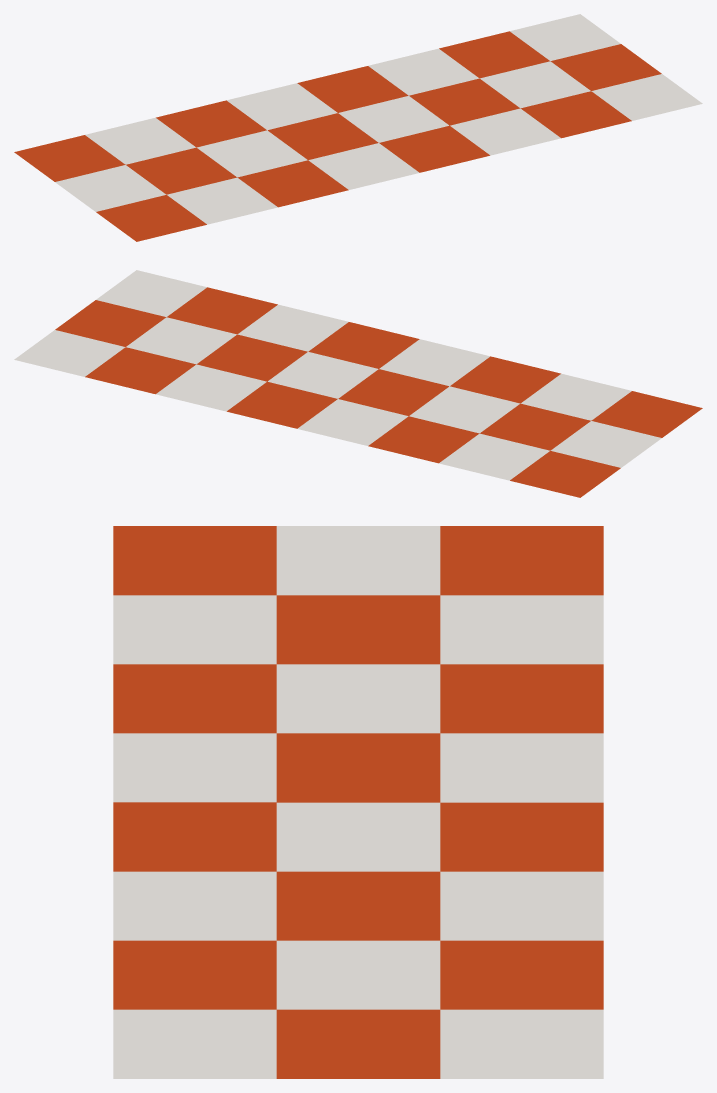
File: CheckPoint03.FBX
3 views of the same model, one above another, from view 1: azimuth 30°, elevation 25°; view 2: azimuth 150°, elevation 25°; view 3: azimuth 270°, elevation 25° (orthographic). The views are drawn at different scales.
Visible parts, largest first — view 1: CheckPoint03; view 2: CheckPoint03; view 3: CheckPoint03.
Part boxes in pixels (x1,y1,x2,y2): CheckPoint03: (14, 14, 702, 241); CheckPoint03: (14, 270, 702, 497); CheckPoint03: (113, 526, 603, 1078).
Size of the model in its own units: 394 by 5.72e-06 by 148.
